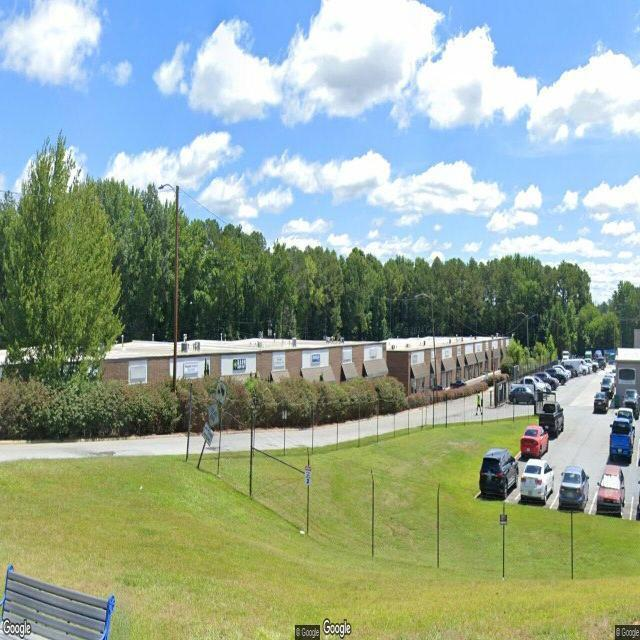seating: (0, 564, 116, 640)
